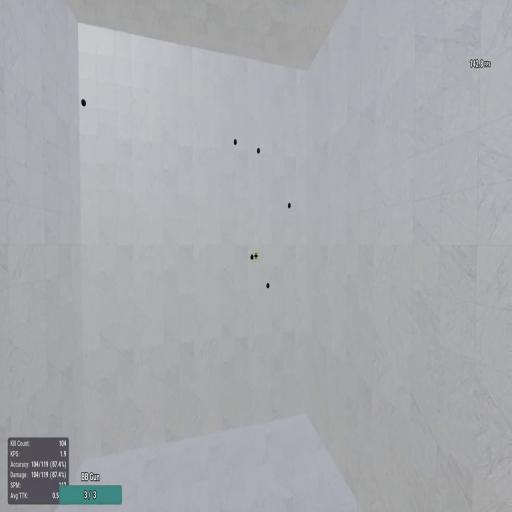Crosshair: (254, 251, 258, 260)
Target: (232, 138, 238, 146), (80, 98, 86, 106), (256, 146, 260, 154), (266, 282, 270, 289), (287, 202, 291, 209), (250, 254, 254, 260)
